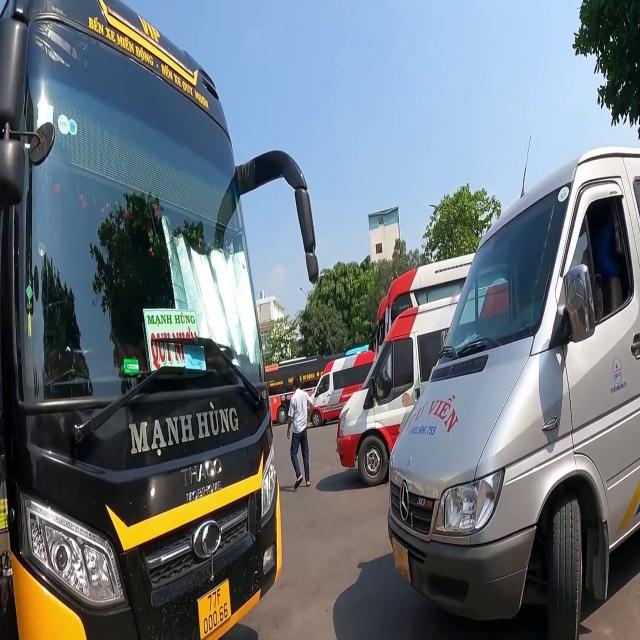bien_vang: (193, 583, 236, 638)
